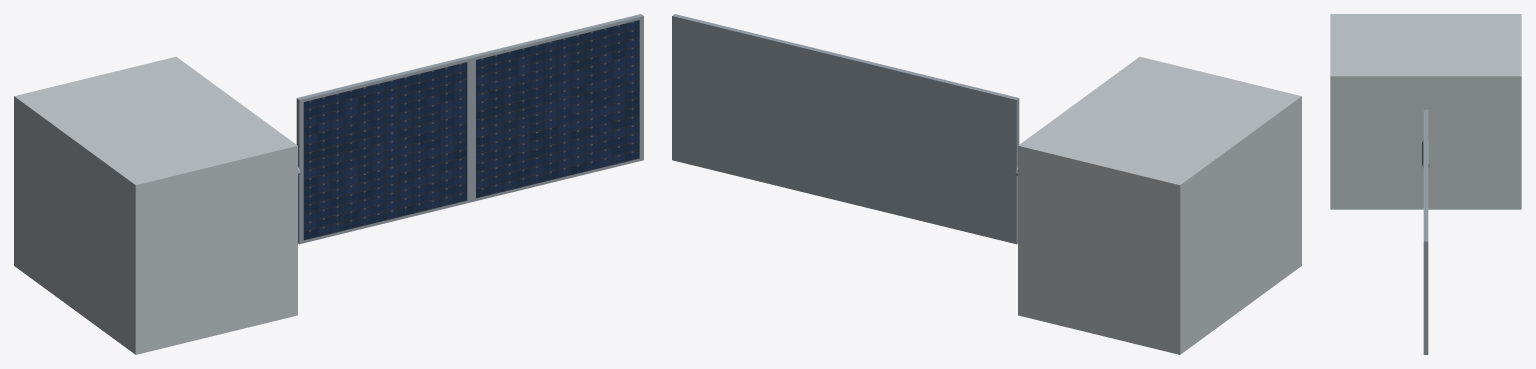
Rendered from ref-triton-58017.glb.
The picture shows the model from 3 angles, left to right: view 1: azimuth 30°, elevation 25°; view 2: azimuth 150°, elevation 25°; view 3: azimuth 270°, elevation 25°; orthographic projection. The views are drawn at different scales.
Parts seen in each view (by area): view 1: Spacecraft body, Photovoltaic laminates (×2), Array frame (×2); view 2: Spacecraft body, Array frame (×2); view 3: Spacecraft body, Array frame (×2).
Boxes of the visible parts, <box> form: Spacecraft body: <box>14,56,297,354</box>; Photovoltaic laminates (×2): <box>303,20,639,240</box>; Array frame (×2): <box>296,14,643,244</box>; Spacecraft body: <box>1018,56,1301,354</box>; Array frame (×2): <box>672,14,1019,244</box>; Spacecraft body: <box>1330,14,1521,209</box>; Array frame (×2): <box>1423,109,1428,354</box>.
Bounding box in the file's own units: 3.5 × 1 × 1.3.
Materials: 3 (1 with a texture image).
